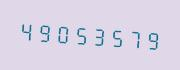five: (71, 18, 88, 49), (107, 21, 124, 52)
four: (17, 14, 34, 46)
nine: (35, 16, 52, 47), (143, 23, 160, 54)
seven: (125, 22, 142, 53)
three: (89, 19, 106, 51)
zero: (53, 17, 70, 48)
